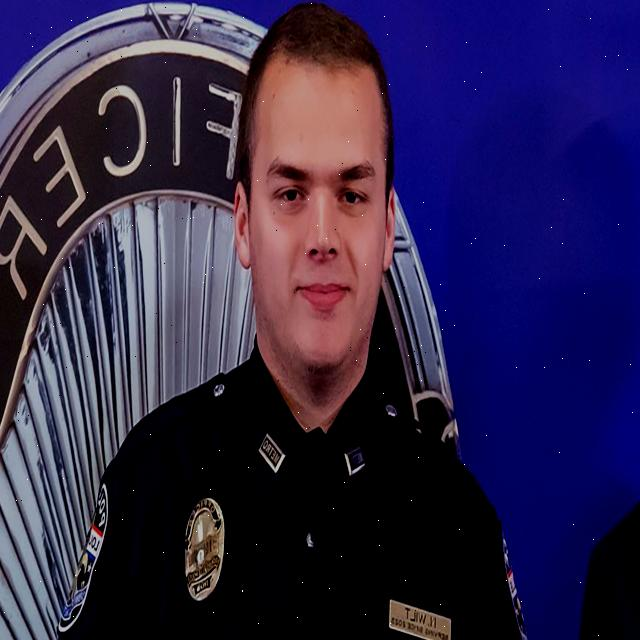police: (47, 0, 530, 640)
